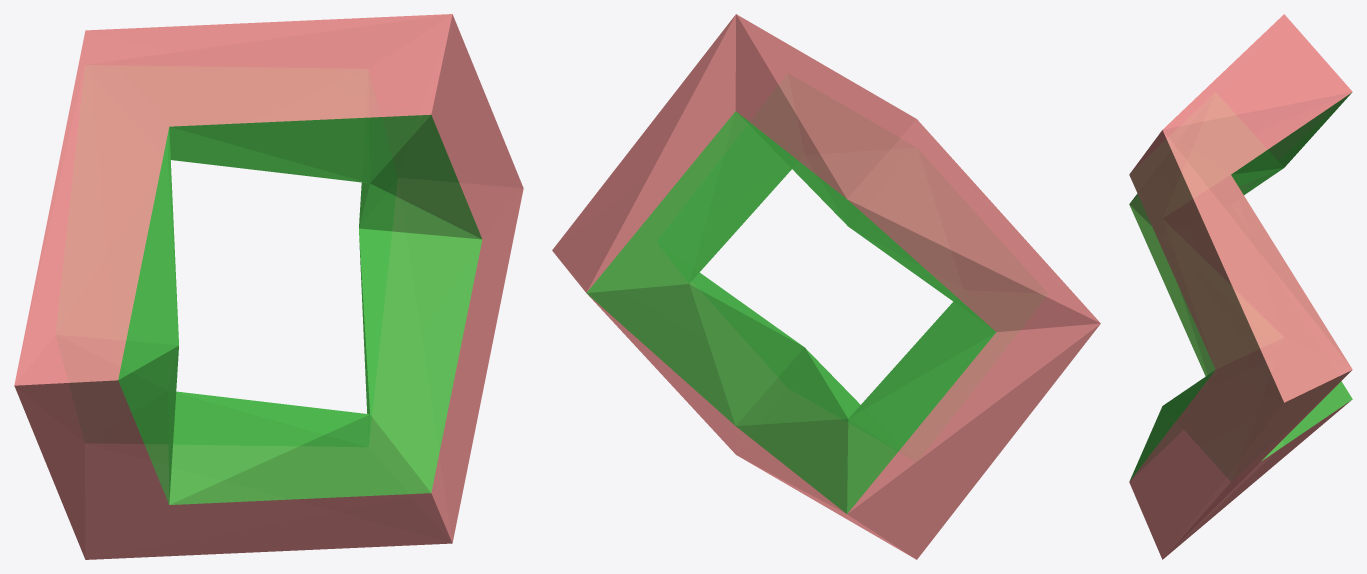
File: Regular6TetragonalToroidSin.obj
3 renders of one model, left to right at view 1: azimuth 30°, elevation 25°; view 2: azimuth 150°, elevation 25°; view 3: azimuth 270°, elevation 25°, orthographic. The views are drawn at different scales.
Bounding box in the file's own units: 2.8 × 2.42 × 1.14.
